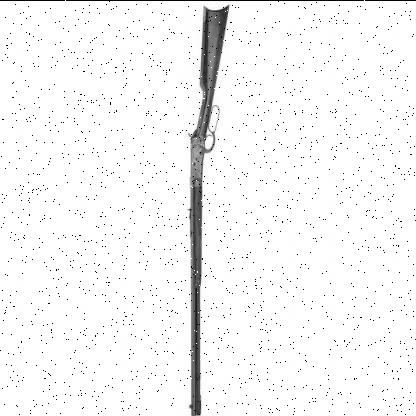rifle: (169, 1, 257, 416)
